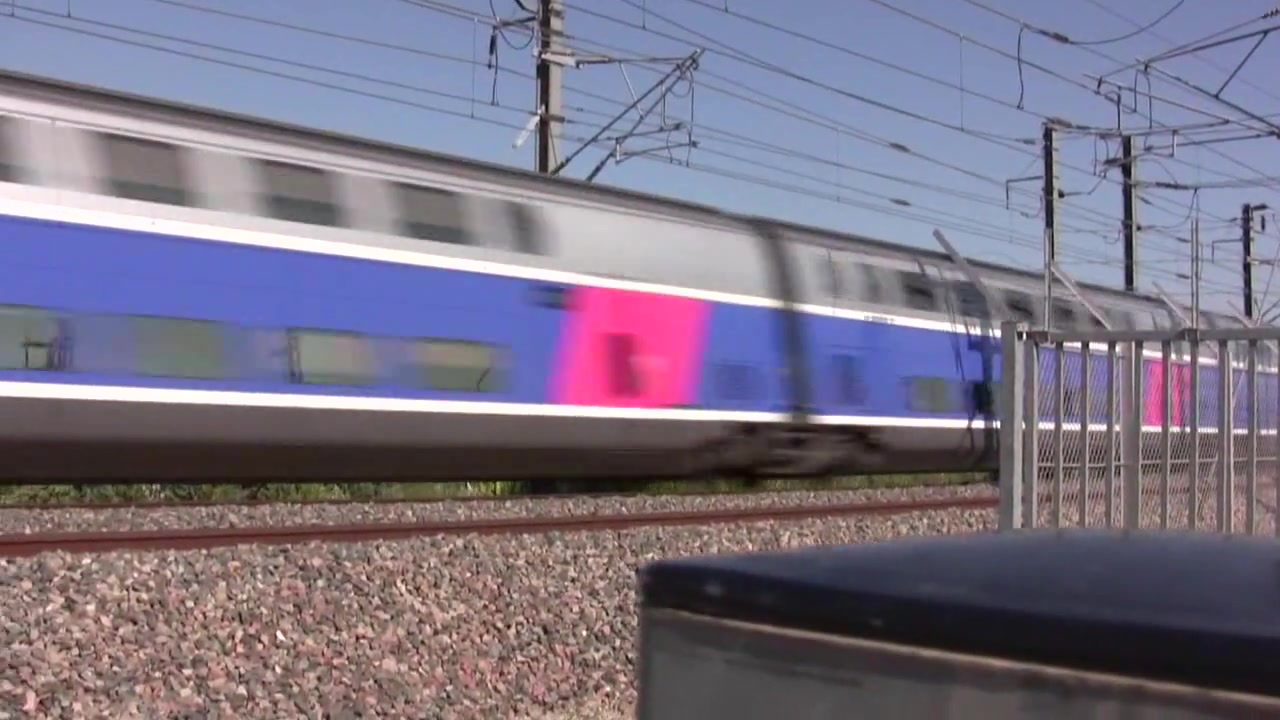train: (1, 68, 1280, 487)
